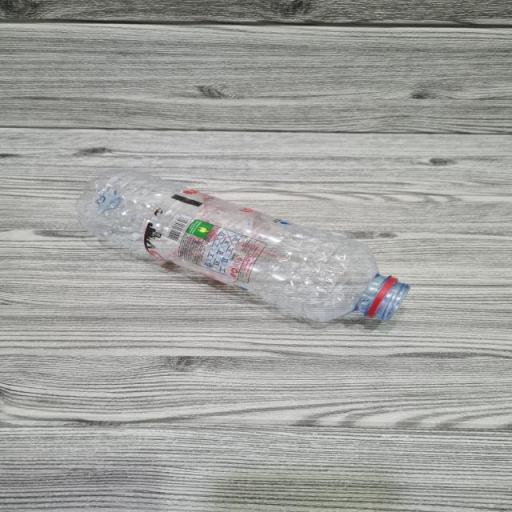plastic: (75, 160, 414, 328)
